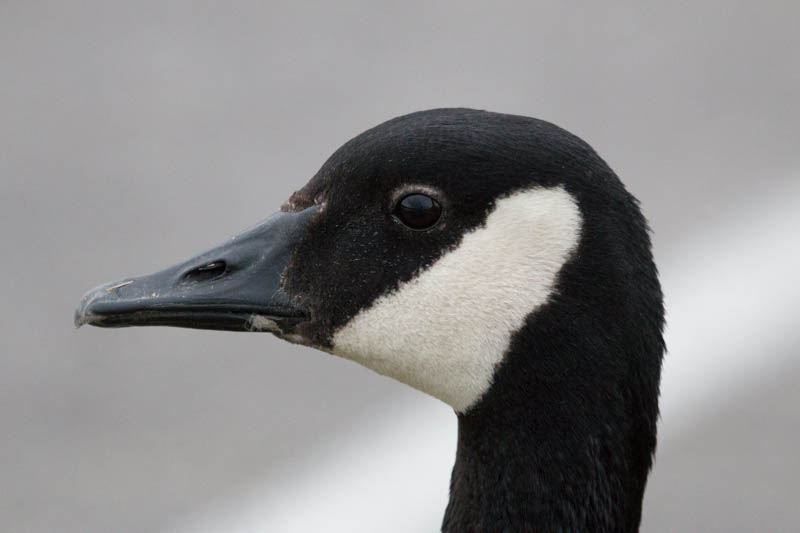goose-head: (72, 107, 666, 417)
